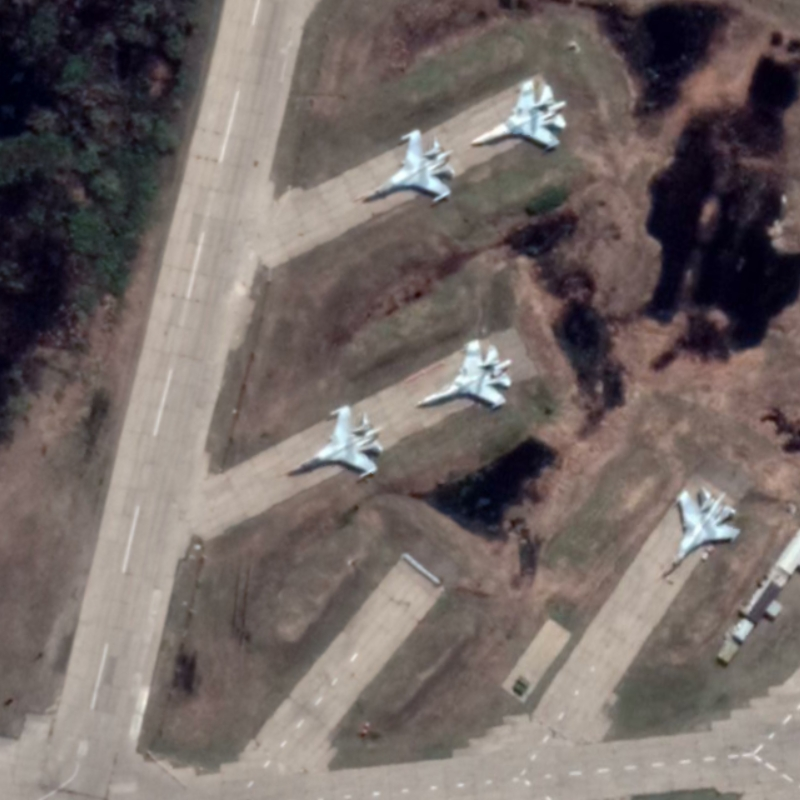A1: (282, 402, 385, 486), (358, 126, 459, 208), (467, 75, 570, 155), (658, 486, 743, 582), (412, 335, 515, 411)
